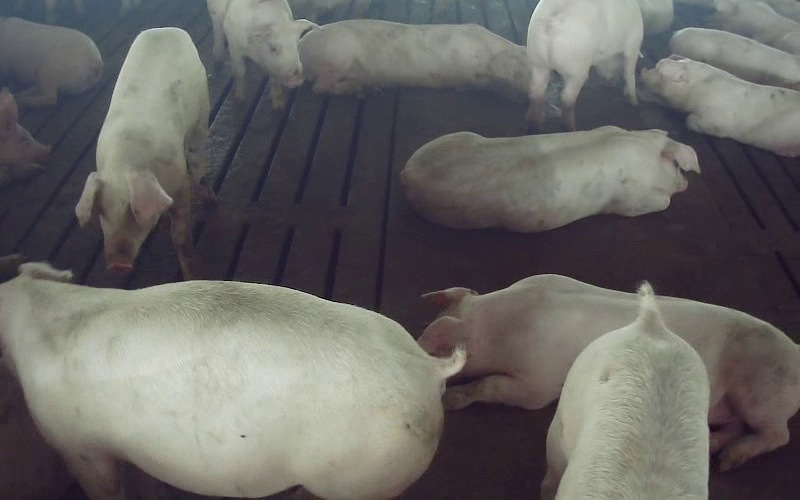pig: (0, 263, 465, 497), (542, 282, 709, 499), (76, 28, 213, 279), (401, 126, 699, 231), (300, 19, 528, 97), (642, 55, 799, 155), (527, 0, 643, 129), (208, 0, 315, 107), (669, 28, 799, 89)
